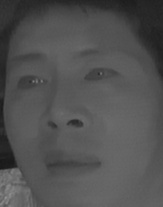eye: (82, 64, 121, 88), (13, 71, 49, 93)
mouth: (42, 146, 103, 182)
